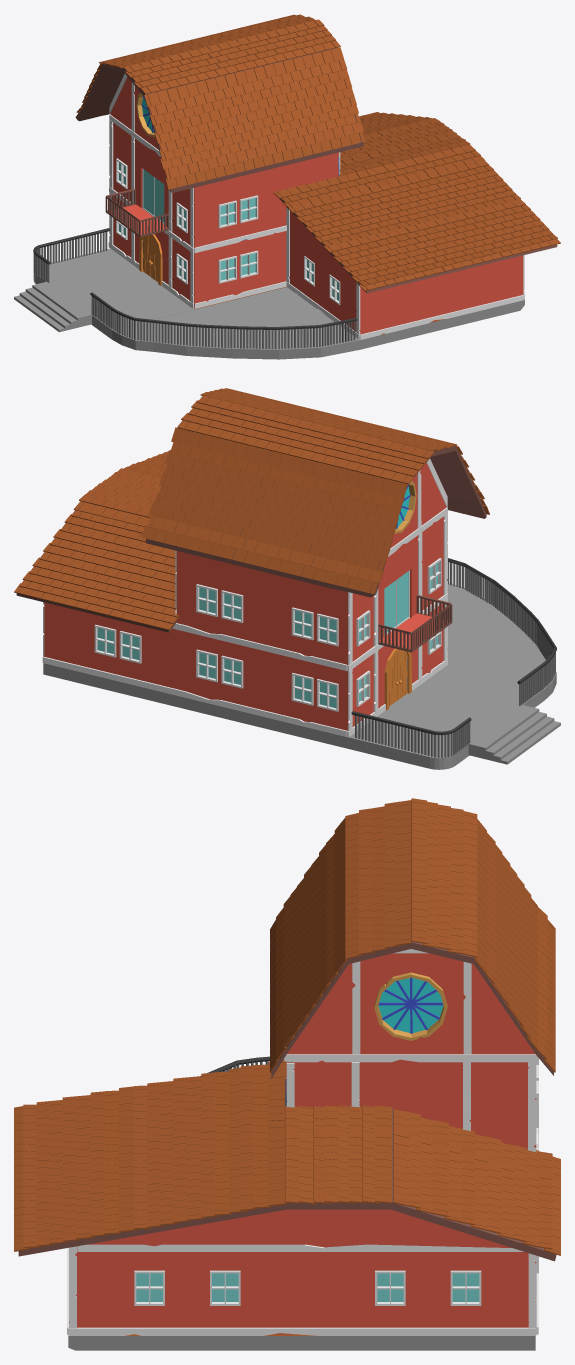
The model's file is threestoreyhouse.fbx.
3 views of the same model, one above another, from view 1: azimuth 30°, elevation 25°; view 2: azimuth 150°, elevation 25°; view 3: azimuth 270°, elevation 25° (orthographic). The views are drawn at different scales.
Parts seen in each view (by area): view 1: threestoreyhouserooftile, threestoreyhouse, threestoreyhouse.002, threestoreyhouseroof, threestoreyhousebalconyleftdoor; view 2: threestoreyhouse, threestoreyhouserooftile, threestoreyhouse.002, threestoreyhouseroof, threestoreyhousebalconyrightdoor, threestoreyhousebalconyleftdoor, threestoreyhouserightdoor; view 3: threestoreyhouserooftile, threestoreyhouse, threestoreyhouse.002, threestoreyhouseroof.
Part boxes in pixels (x1=…): threestoreyhouserooftile: x1=75, y1=14, x2=560, y2=291; threestoreyhouse: x1=14, y1=73, x2=524, y2=349; threestoreyhouse.002: x1=33, y1=157, x2=524, y2=359; threestoreyhouseroof: x1=76, y1=47, x2=557, y2=293; threestoreyhousebalconyleftdoor: x1=142, y1=168, x2=154, y2=216; threestoreyhouse: x1=42, y1=459, x2=560, y2=764; threestoreyhouserooftile: x1=14, y1=388, x2=489, y2=630; threestoreyhouse.002: x1=43, y1=583, x2=556, y2=769; threestoreyhouseroof: x1=16, y1=396, x2=486, y2=632; threestoreyhousebalconyrightdoor: x1=397, y1=570, x2=409, y2=626; threestoreyhousebalconyleftdoor: x1=384, y1=580, x2=396, y2=635; threestoreyhouserightdoor: x1=397, y1=650, x2=407, y2=700; threestoreyhouserooftile: x1=14, y1=798, x2=560, y2=1255; threestoreyhouse: x1=67, y1=949, x2=538, y2=1335; threestoreyhouse.002: x1=68, y1=1077, x2=535, y2=1350; threestoreyhouseroof: x1=18, y1=941, x2=556, y2=1261.
Bounding box in the file's own units: 3155 × 1759 × 2552.
